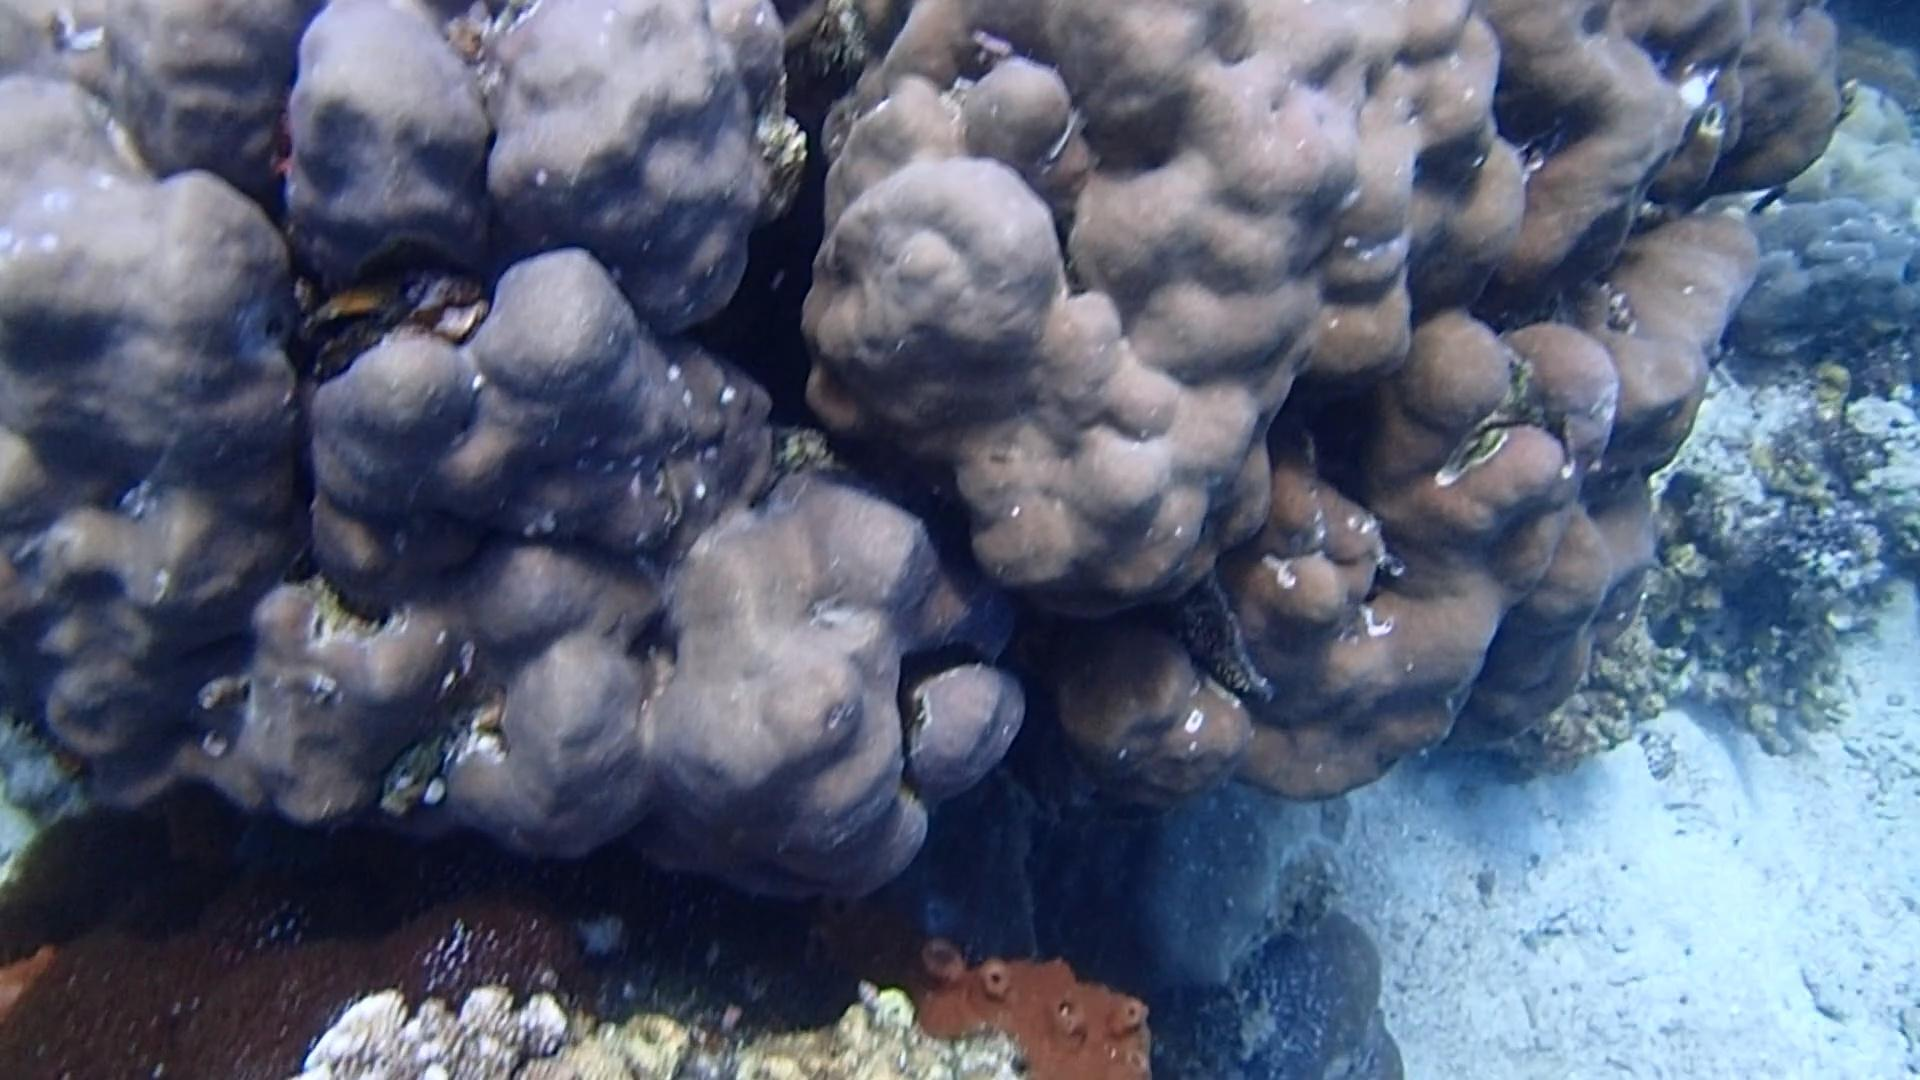Dark Fish: (1749, 179, 1800, 218)
